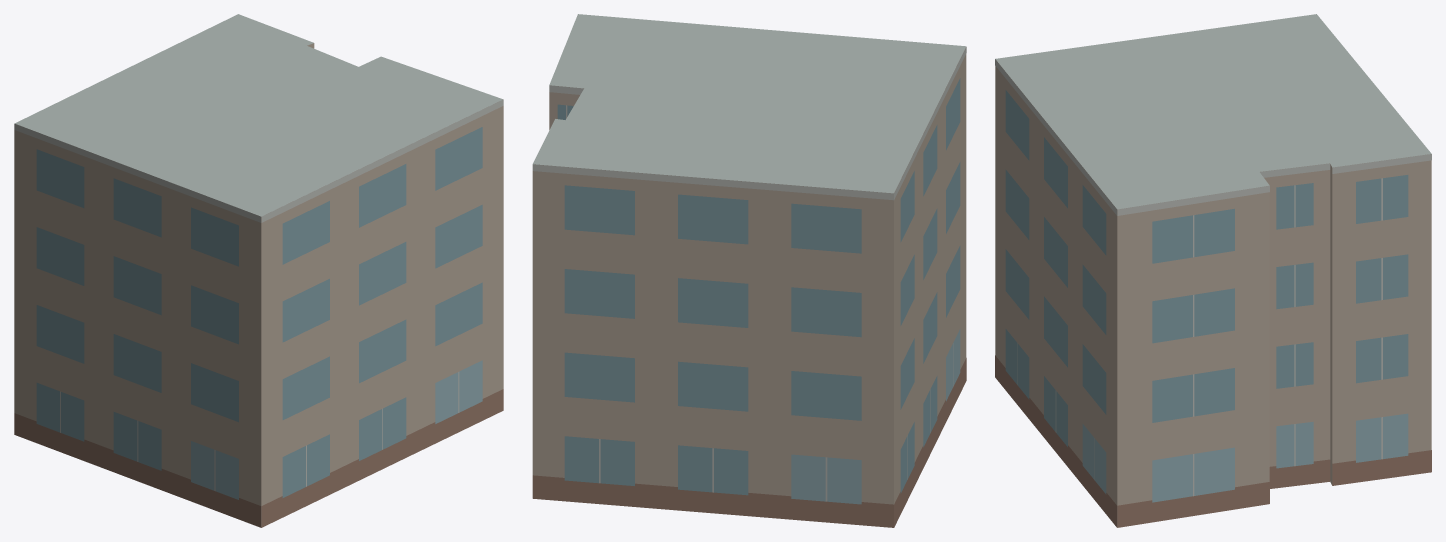
File: survey-upis-32867736.glb
The picture shows the model from 3 angles, left to right: view 1: azimuth 30°, elevation 25°; view 2: azimuth 150°, elevation 25°; view 3: azimuth 270°, elevation 25°; orthographic projection. The views are drawn at different scales.
Parts seen in each view (by area): view 1: survey-upis-32867736.tmp; view 2: survey-upis-32867736.tmp; view 3: survey-upis-32867736.tmp.
Boxes of the visible parts, x1=… form: survey-upis-32867736.tmp: x1=14, y1=14, x2=503, y2=527; survey-upis-32867736.tmp: x1=532, y1=14, x2=966, y2=527; survey-upis-32867736.tmp: x1=995, y1=14, x2=1431, y2=527.
Bounding box in the file's own units: 15.68 × 11.9 × 14.8.
